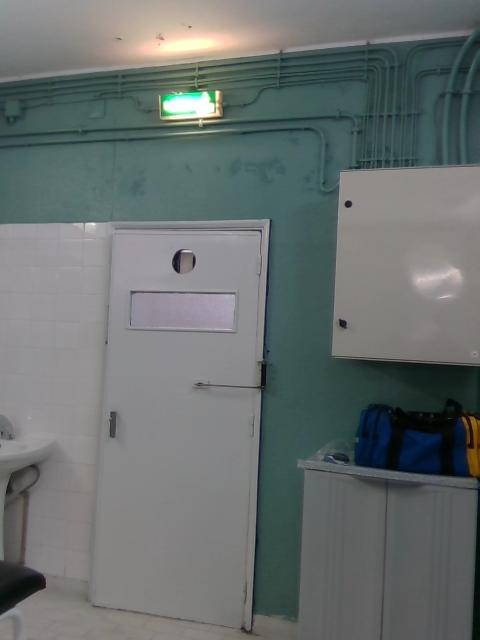door: (88, 228, 261, 630)
